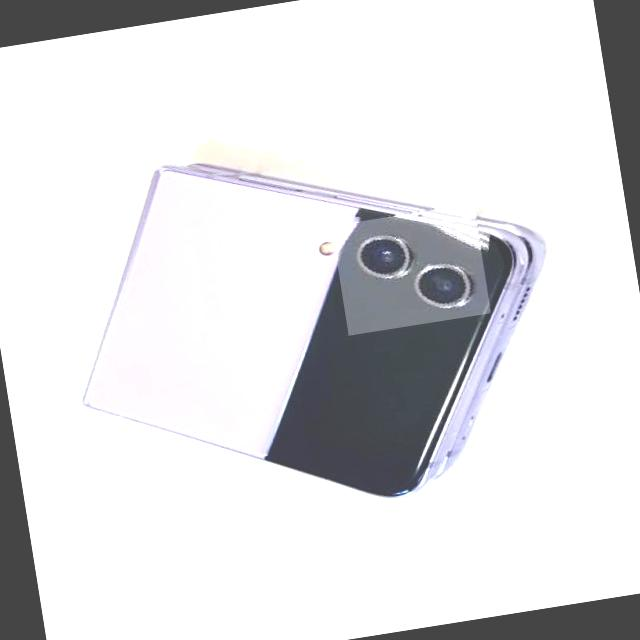lens_back: (410, 251, 484, 319), (347, 232, 417, 287)
phone: (48, 108, 590, 536)
